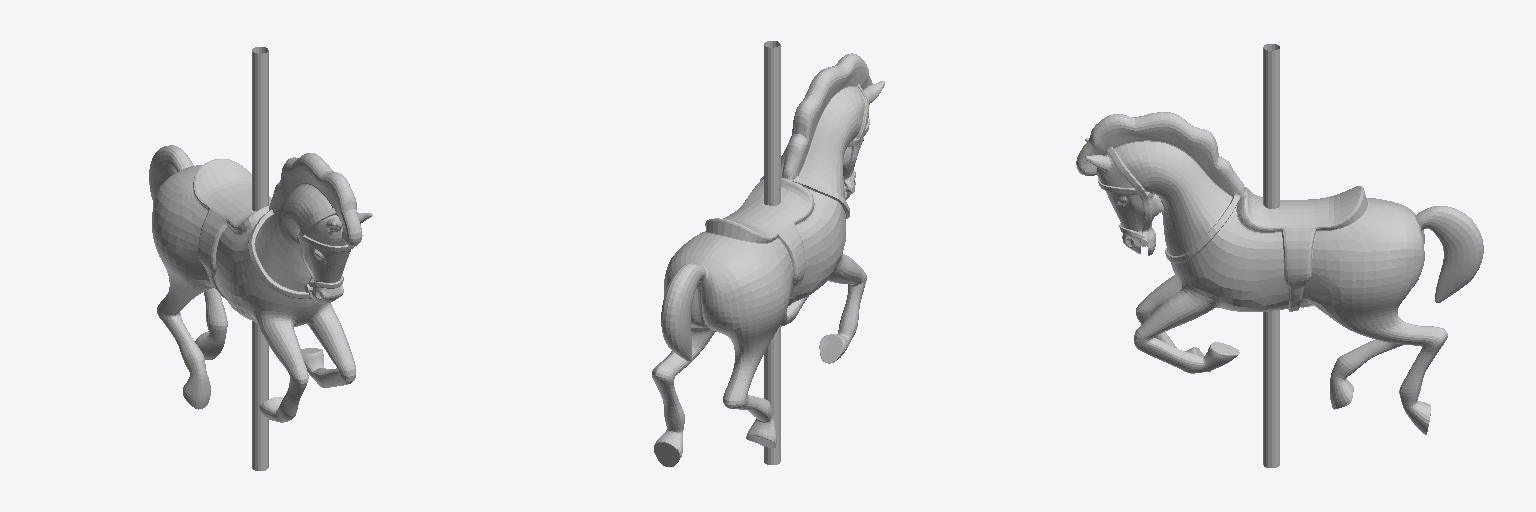
Rendered from merry_go_round_horse.obj.
3 renders of one model, left to right at view 1: azimuth 30°, elevation 25°; view 2: azimuth 150°, elevation 25°; view 3: azimuth 270°, elevation 25°, orthographic.
Parts seen in each view (by area): view 1: Object001; view 2: Object001; view 3: Object001.
Part boxes in pixels (x1,y1,x2,y2): Object001: (149, 47, 372, 470); Object001: (652, 41, 884, 466); Object001: (1076, 44, 1483, 467).
Bounding box in the file's own units: 2.93 × 11.05 × 9.77.